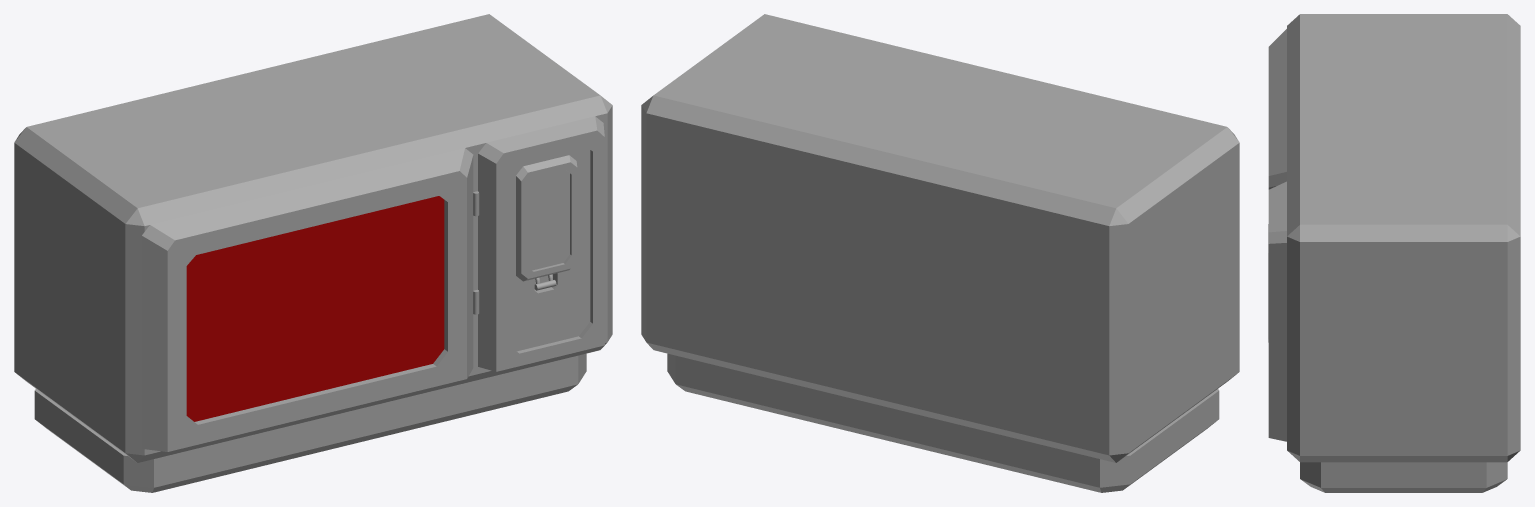
The model's file is dg001-GunSell.fbx.
The picture shows the model from 3 angles, left to right: view 1: azimuth 30°, elevation 25°; view 2: azimuth 150°, elevation 25°; view 3: azimuth 270°, elevation 25°; orthographic projection. The views are drawn at different scales.
Visible parts, largest first — view 1: polySurface1, polySurface27; view 2: polySurface1; view 3: polySurface1.
Boxes of the visible parts, bbox=[...] form: polySurface1: bbox=[14, 14, 612, 492]; polySurface27: bbox=[186, 196, 444, 421]; polySurface1: bbox=[641, 14, 1239, 492]; polySurface1: bbox=[1268, 14, 1520, 492].
Size of the model in its own units: 3.57 by 2.06 by 1.72.
